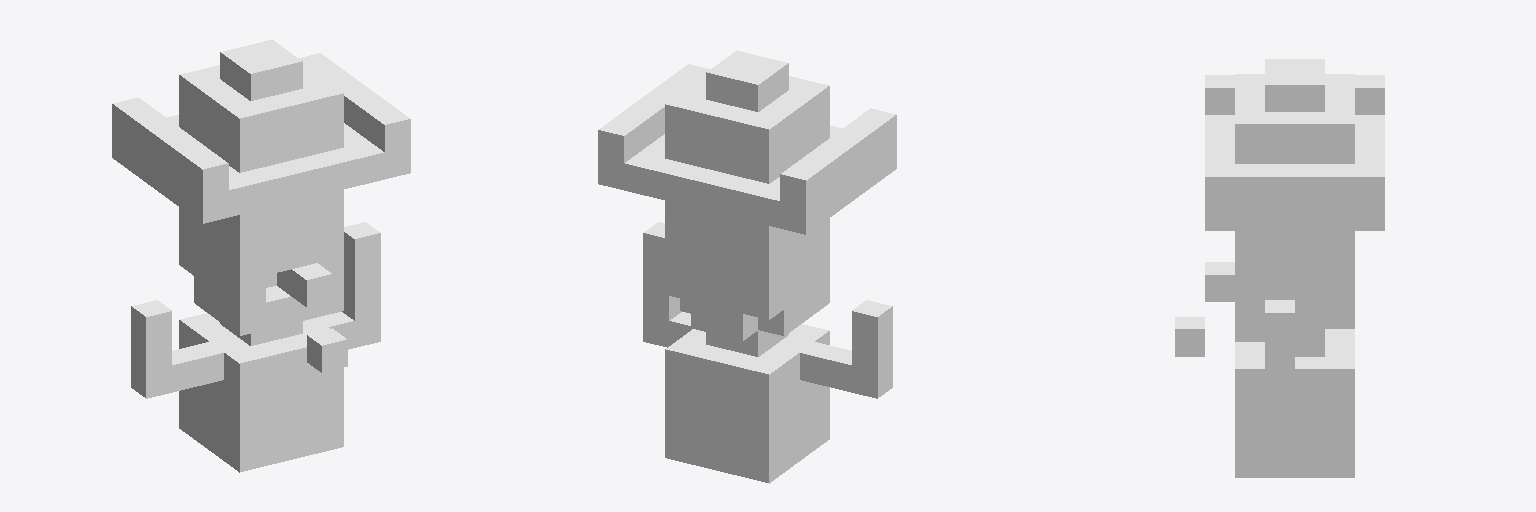
File: drowningcowboy2.obj
3 renders of one model, left to right at view 1: azimuth 30°, elevation 25°; view 2: azimuth 150°, elevation 25°; view 3: azimuth 270°, elevation 25°, orthographic.
Parts seen in each view (by area): view 1: drowningcowboy2; view 2: drowningcowboy2; view 3: drowningcowboy2.
Boxes of the visible parts, x1=… form: drowningcowboy2: x1=112, y1=39, x2=410, y2=472; drowningcowboy2: x1=598, y1=50, x2=896, y2=483; drowningcowboy2: x1=1175, y1=59, x2=1384, y2=477.
Bounding box in the file's own units: 9 × 14 × 7.